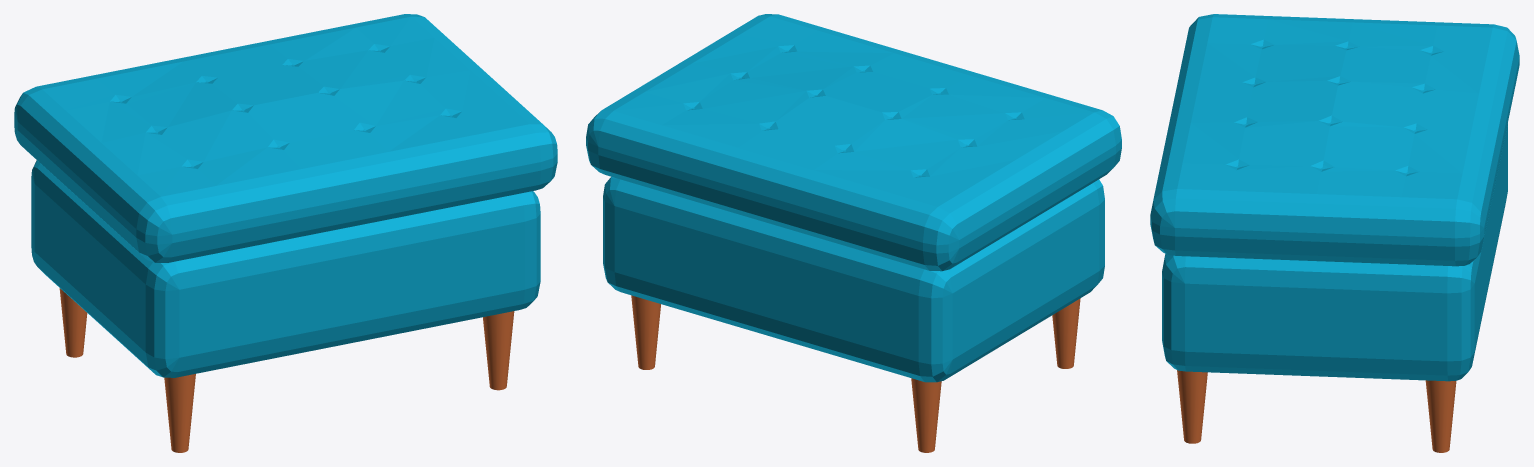
The model's file is stool1.obj.
3 renders of one model, left to right at view 1: azimuth 30°, elevation 25°; view 2: azimuth 150°, elevation 25°; view 3: azimuth 270°, elevation 25°, orthographic. The views are drawn at different scales.
Visible parts, largest first — view 1: Box002, Box001, Cylinder004, Cylinder003, Cylinder001; view 2: Box002, Box001, Cylinder001, Cylinder002, Cylinder004; view 3: Box002, Box001, Cylinder003, Cylinder002.
Part boxes in pixels (x1=…): Box002: x1=14, y1=14, x2=557, y2=262; Box001: x1=31, y1=160, x2=540, y2=377; Cylinder004: x1=164, y1=374, x2=195, y2=452; Cylinder003: x1=483, y1=311, x2=514, y2=390; Cylinder001: x1=59, y1=288, x2=87, y2=357; Box002: x1=586, y1=14, x2=1121, y2=271; Box001: x1=603, y1=177, x2=1104, y2=382; Cylinder001: x1=911, y1=378, x2=941, y2=452; Cylinder002: x1=631, y1=295, x2=660, y2=369; Cylinder004: x1=1052, y1=298, x2=1080, y2=368; Box002: x1=1150, y1=14, x2=1519, y2=266; Box001: x1=1162, y1=123, x2=1507, y2=381; Cylinder003: x1=1177, y1=370, x2=1207, y2=443; Cylinder002: x1=1425, y1=380, x2=1456, y2=452.
Size of the model in its own units: 403156 by 248370 by 307331.
